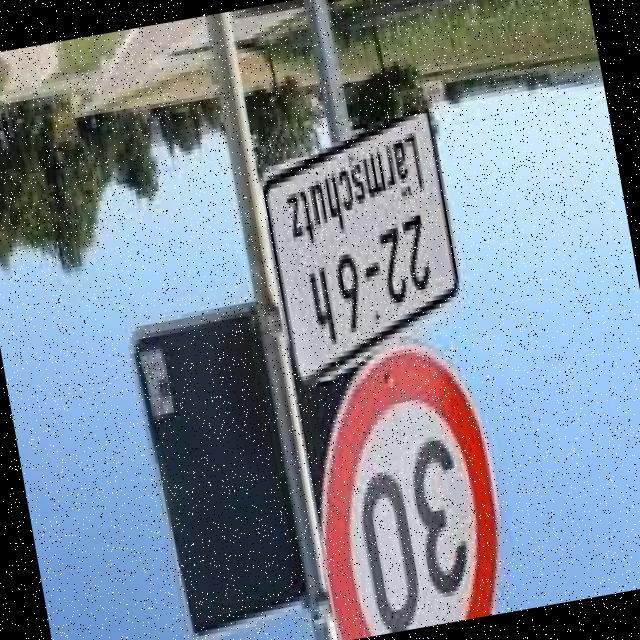speed_limit_30: (284, 331, 531, 640)
